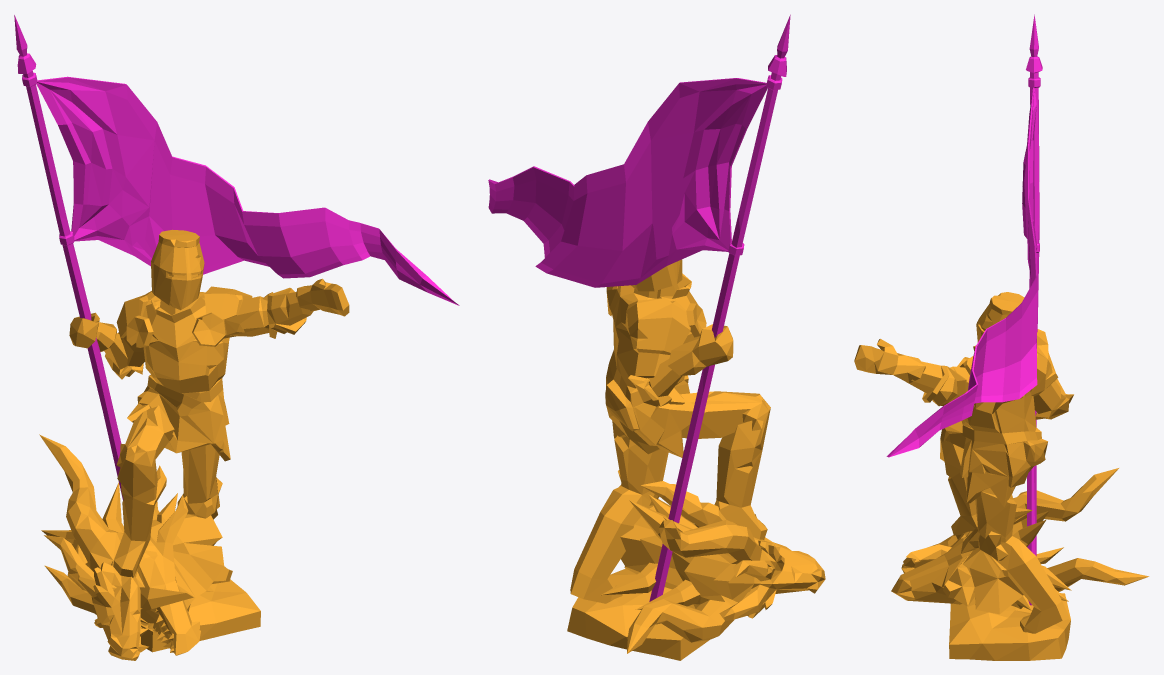
Rendered from SM_Statue_Knight_DragonSlayer_Fantasy.fbx.
3 renders of one model, left to right at view 1: azimuth 30°, elevation 25°; view 2: azimuth 150°, elevation 25°; view 3: azimuth 270°, elevation 25°, orthographic. The views are drawn at different scales.
Visible parts, largest first — view 1: SM_Statue_Knight_DragonSlayer_Fantasy; view 2: SM_Statue_Knight_DragonSlayer_Fantasy; view 3: SM_Statue_Knight_DragonSlayer_Fantasy.
Boxes of the visible parts, box(x1,y1,x2,y2) form: SM_Statue_Knight_DragonSlayer_Fantasy: box(14, 15, 459, 660); SM_Statue_Knight_DragonSlayer_Fantasy: box(488, 14, 825, 660); SM_Statue_Knight_DragonSlayer_Fantasy: box(854, 14, 1149, 660).
Size of the model in its own units: 1.91 by 3.14 by 1.51.
